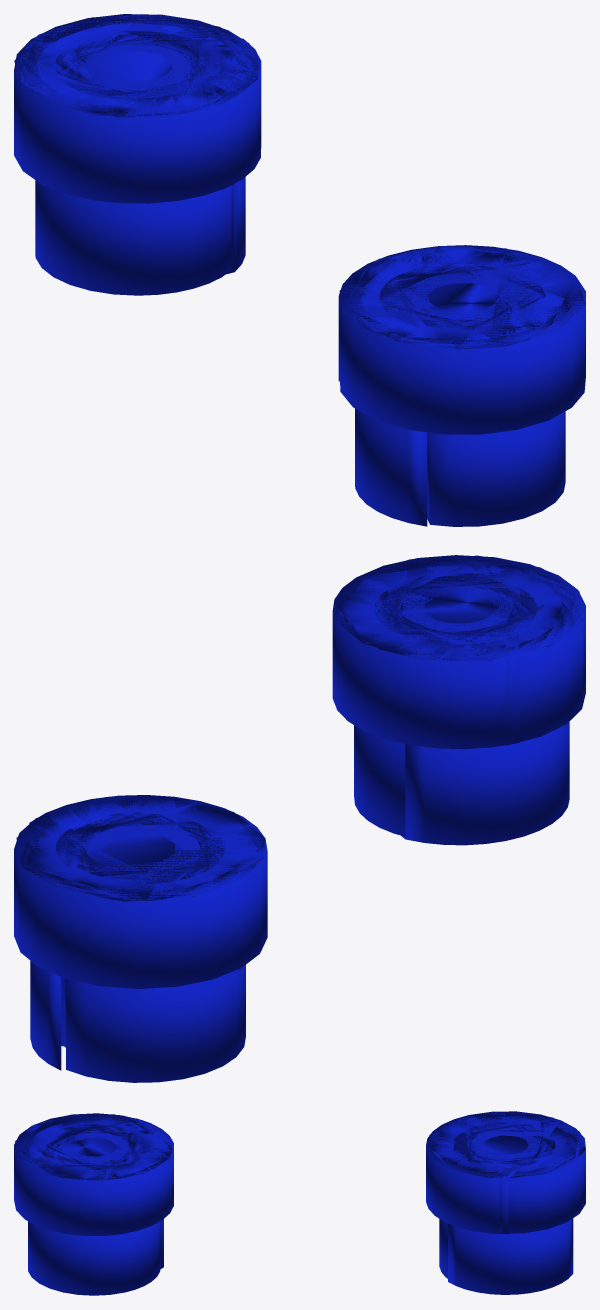
The model's file is tuyeau.obj.
The picture shows the model from 3 angles, top to bottom: view 1: azimuth 30°, elevation 25°; view 2: azimuth 150°, elevation 25°; view 3: azimuth 270°, elevation 25°; orthographic projection. The views are drawn at different scales.
Visible parts, largest first — view 1: tuyeau2_Cube.017, tuyeau1_Cube.014; view 2: tuyeau2_Cube.017, tuyeau1_Cube.014; view 3: tuyeau1_Cube.014, tuyeau2_Cube.017.
Boxes of the visible parts, <box> form: tuyeau2_Cube.017: <box>338,245,585,526</box>; tuyeau1_Cube.014: <box>14,14,261,295</box>; tuyeau2_Cube.017: <box>332,555,585,845</box>; tuyeau1_Cube.014: <box>14,795,267,1082</box>; tuyeau1_Cube.014: <box>426,1111,585,1294</box>; tuyeau2_Cube.017: <box>14,1113,173,1295</box>.
Size of the model in its own units: 3626 by 2917 by 12565.
